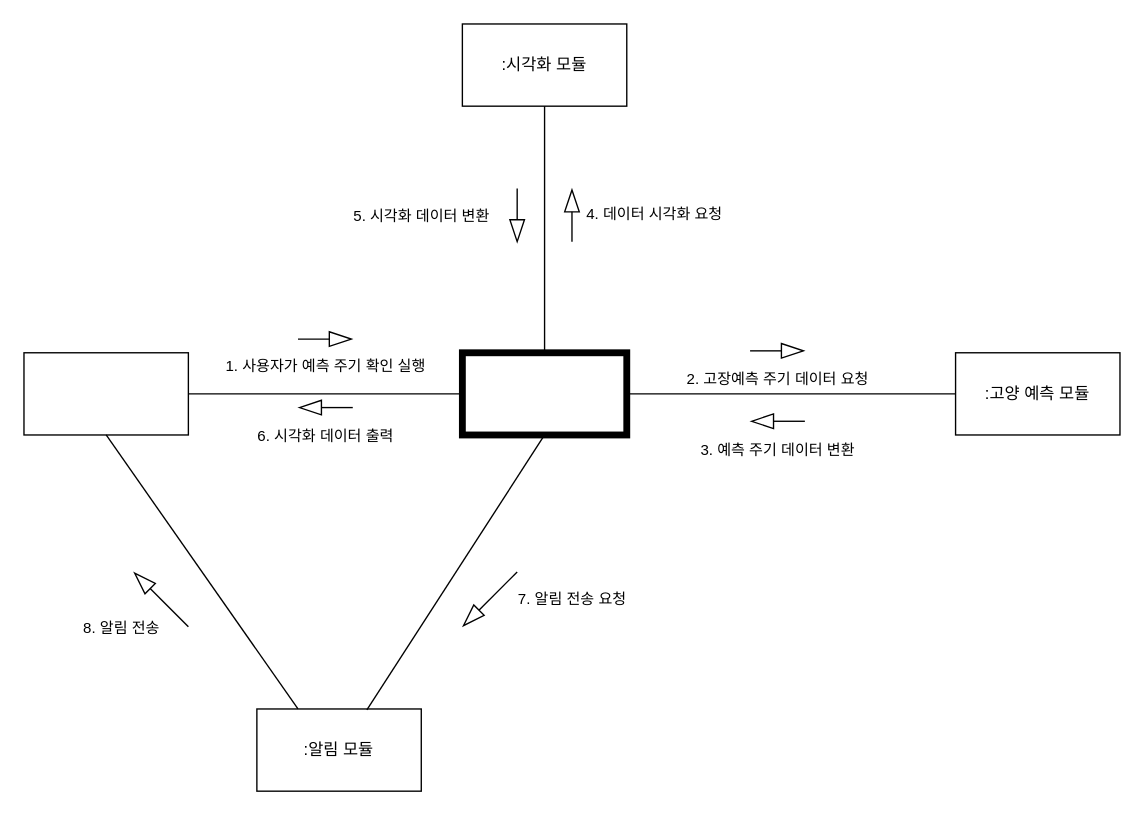
This 1144x815 diagram has some shape labels left out. The shapes that lost their labels are listed below. From the top down, each one's box as (x1, y1, x2, y2) in pixels, then its label:
(23, 351, 188, 435): :사용자
(458, 349, 630, 438): :예측 주기 출력 모듈
